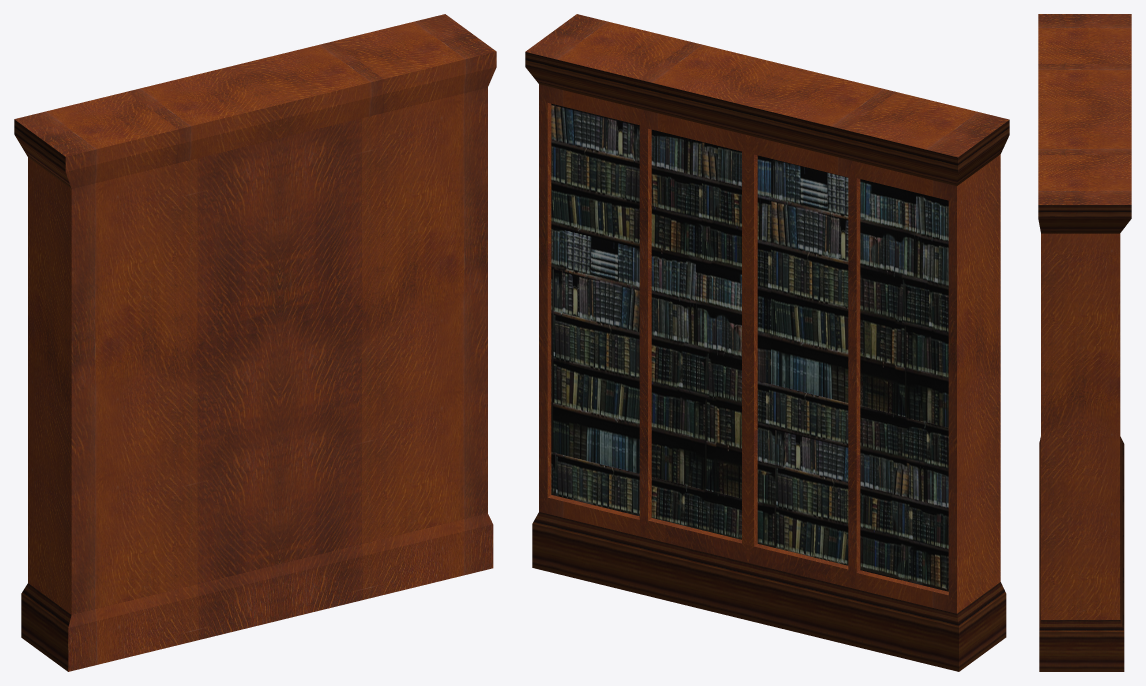
File: Bookcase_Long1.fbx
3 views of the same model, side by side, from view 1: azimuth 30°, elevation 25°; view 2: azimuth 150°, elevation 25°; view 3: azimuth 270°, elevation 25° (orthographic). The views are drawn at different scales.
Visible parts, largest first — view 1: Bookcaselong1.003; view 2: Bookcaselong1.003; view 3: Bookcaselong1.003.
Part boxes in pixels (left/top/right/bottom): Bookcaselong1.003: left=14, top=14, right=496, bottom=671; Bookcaselong1.003: left=525, top=14, right=1009, bottom=671; Bookcaselong1.003: left=1038, top=14, right=1131, bottom=671.
Size of the model in its own units: 405 by 463 by 83.72.
